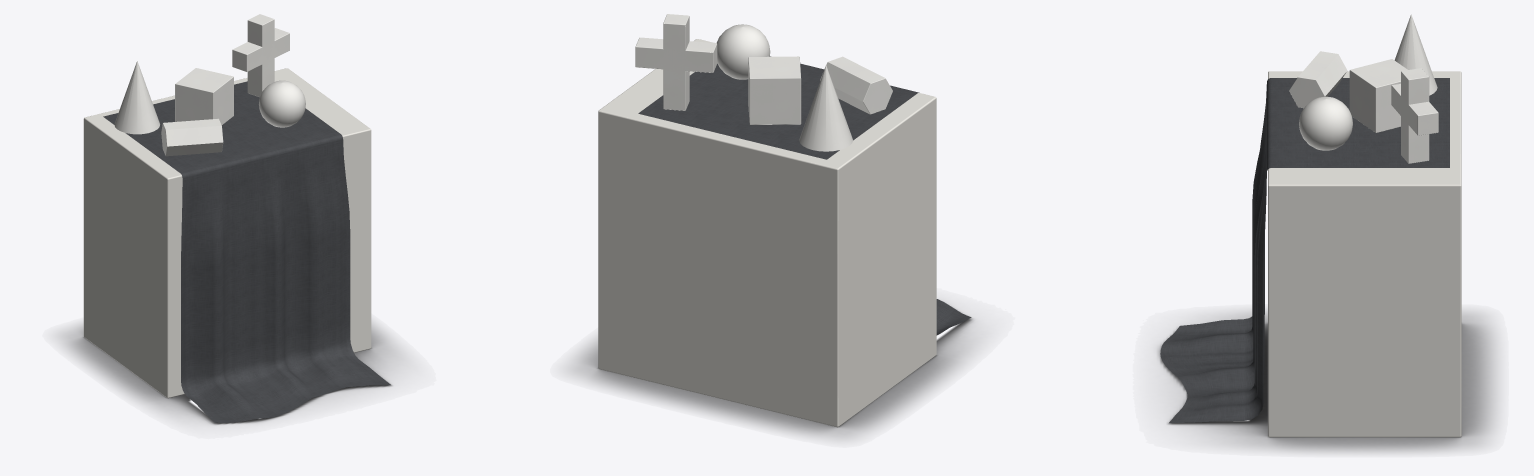
File: still_life.glb
The picture shows the model from 3 angles, left to right: view 1: azimuth 30°, elevation 25°; view 2: azimuth 150°, elevation 25°; view 3: azimuth 270°, elevation 25°; orthographic projection. The views are drawn at different scales.
Visible parts, largest first — view 1: still_life_LOD0, still_life_Shadow; view 2: still_life_LOD0, still_life_Shadow; view 3: still_life_LOD0, still_life_Shadow.
Part boxes in pixels (x1=…): still_life_LOD0: x1=83, y1=14, x2=390, y2=422; still_life_Shadow: x1=62, y1=324, x2=398, y2=424; still_life_LOD0: x1=598, y1=14, x2=971, y2=427; still_life_Shadow: x1=573, y1=306, x2=974, y2=437; still_life_LOD0: x1=1160, y1=14, x2=1461, y2=437; still_life_Shadow: x1=1157, y1=311, x2=1494, y2=451.
Size of what is drawn, in the model's own units: 1 by 0.9625 by 1.08.
4 materials, 3 textured.
